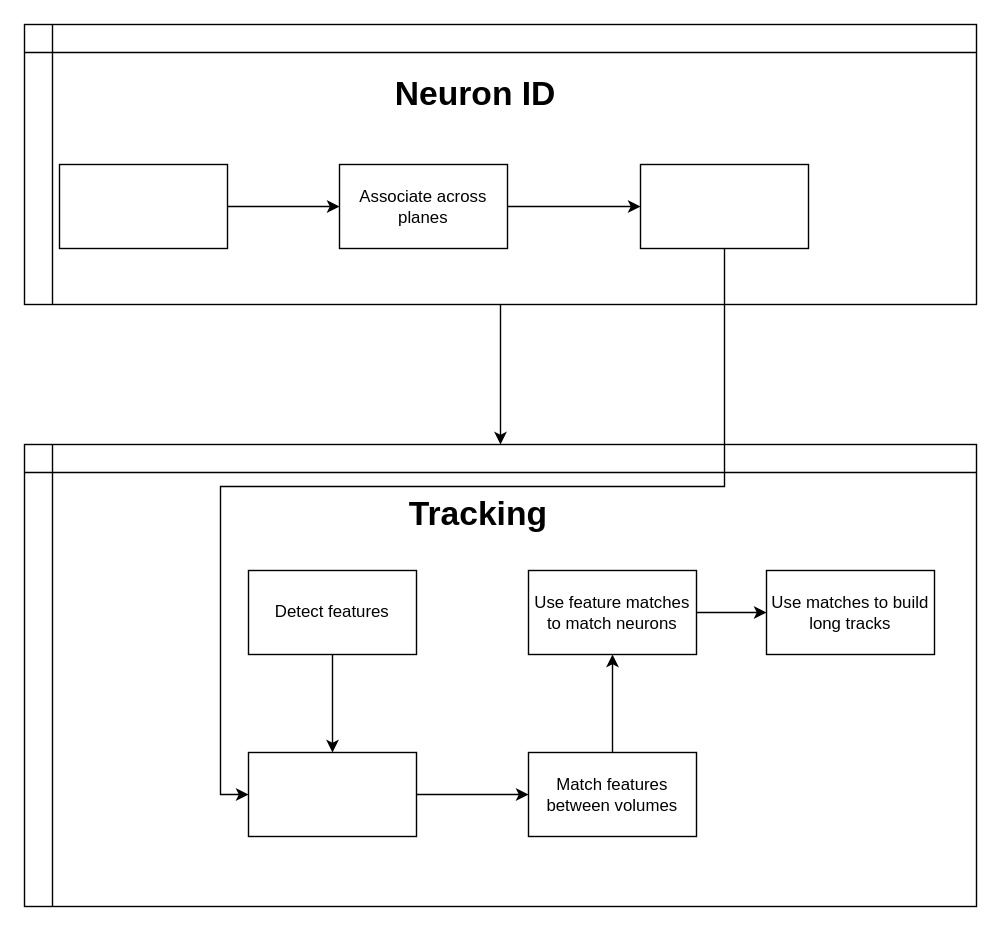
Image size: 1001x931. Some labels were removed from this diagram. Here are the shapes that lost their labels. From the top down, the centre of each, then its label:
At pixel 142 205: "Blob detection per plane".
At pixel 723 205: "Take the centroid".
At pixel 331 793: "Associate features to neurons".
